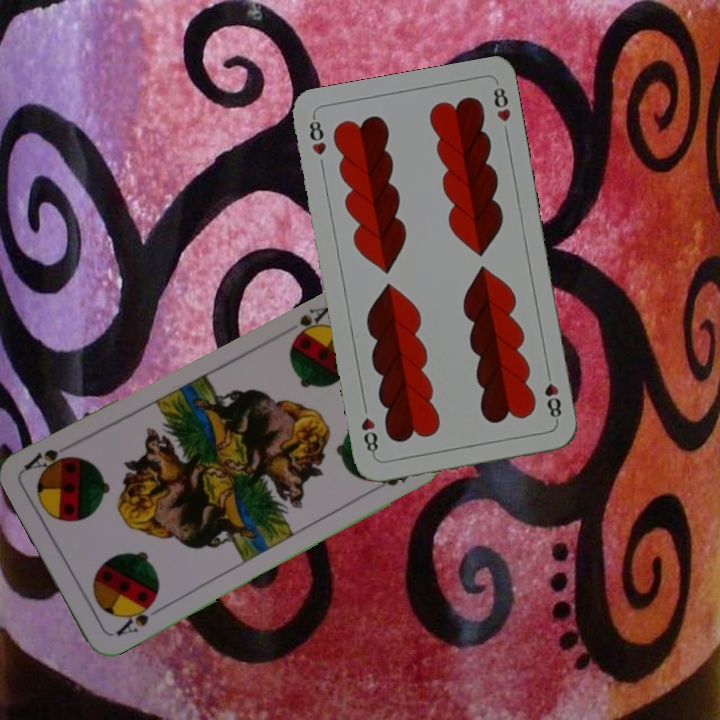H8: (540, 366, 564, 425), (305, 113, 329, 158)
SA: (112, 596, 158, 639), (288, 302, 332, 343)
